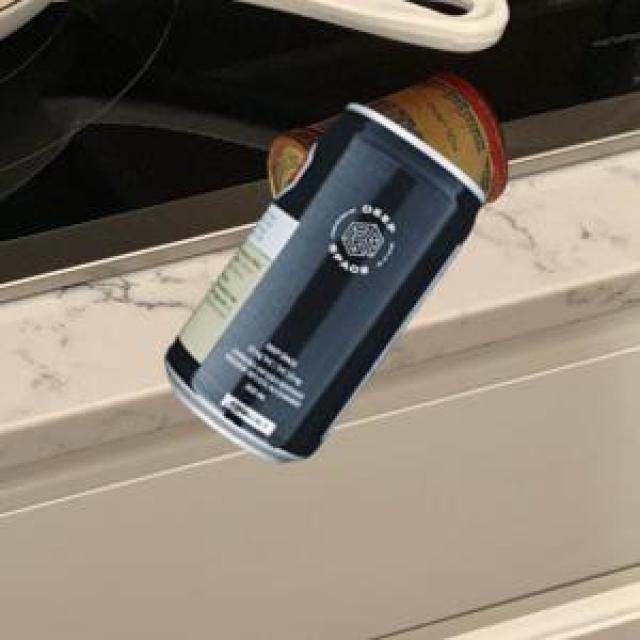logam: (161, 101, 483, 460), (266, 69, 502, 199)
